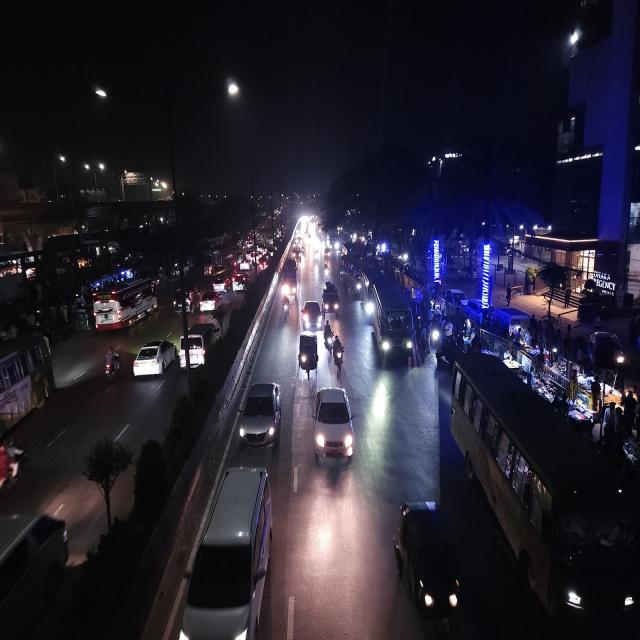bus: (450, 350, 640, 640), (0, 329, 56, 436), (368, 273, 416, 368), (213, 252, 233, 266)
car: (180, 461, 276, 640), (0, 507, 72, 640), (312, 384, 354, 471), (237, 377, 283, 454), (92, 284, 160, 330), (132, 336, 178, 385), (180, 321, 220, 368), (302, 295, 322, 333), (172, 286, 198, 314), (322, 278, 341, 316), (198, 288, 222, 313), (212, 274, 230, 293), (240, 260, 250, 272)
cng: (396, 498, 464, 639), (297, 329, 319, 380), (204, 264, 214, 276)
motorcycle: (101, 344, 123, 387), (331, 334, 345, 376), (322, 319, 334, 352), (280, 294, 290, 325), (322, 261, 331, 280)
pedestrian: (434, 336, 444, 371)
truck: (280, 266, 299, 300)
